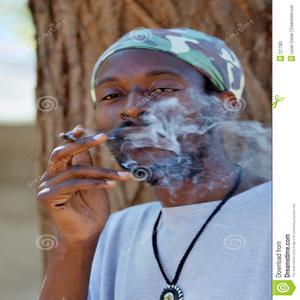cigarette: (59, 132, 81, 143)
